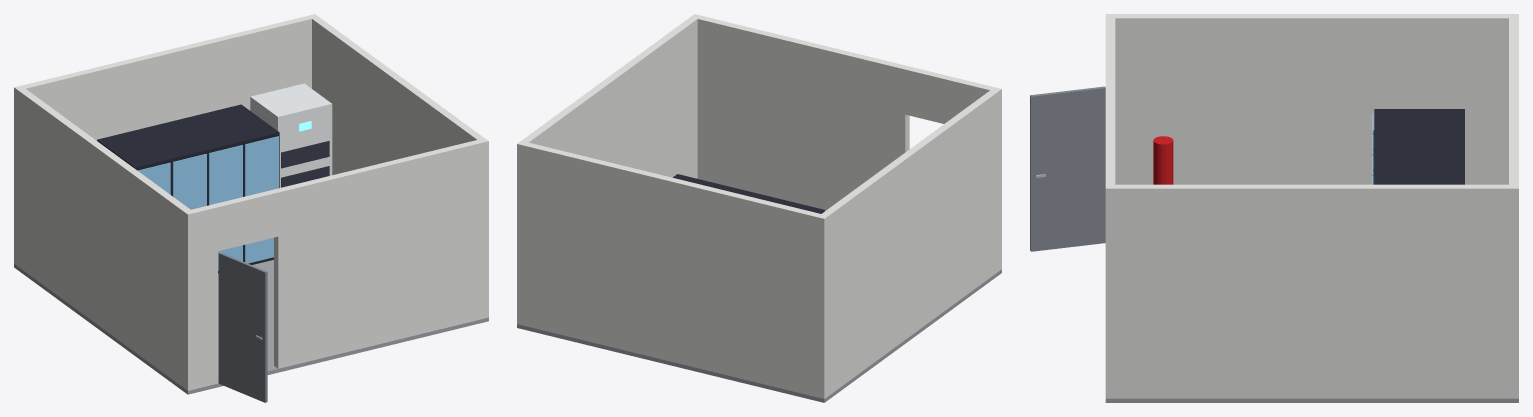
3 views of the same model, side by side, from view 1: azimuth 30°, elevation 25°; view 2: azimuth 150°, elevation 25°; view 3: azimuth 270°, elevation 25° (orthographic). The views are drawn at different scales.
Parts seen in each view (by area): view 1: office_wall, glass, service_door, plastic_dark, white, raised_floor, dark_steel; view 2: office_wall, raised_floor, plastic_dark; view 3: office_wall, service_door, plastic_dark, raised_floor, accent_red.
Boxes of the visible parts, x1,y1,x2,y2 form: office_wall: [14, 14, 488, 390]; glass: [138, 136, 278, 270]; service_door: [218, 252, 267, 402]; plastic_dark: [97, 104, 279, 273]; white: [250, 83, 332, 187]; raised_floor: [14, 260, 488, 394]; dark_steel: [281, 141, 329, 187]; office_wall: [517, 14, 1001, 398]; raised_floor: [517, 269, 1001, 402]; plastic_dark: [673, 174, 824, 213]; office_wall: [1105, 14, 1518, 398]; service_door: [1030, 86, 1105, 251]; plastic_dark: [1374, 109, 1464, 184]; raised_floor: [1105, 398, 1518, 402]; accent_red: [1153, 136, 1173, 184].
Size of the model in its own units: 5 by 2.86 by 5.91.
